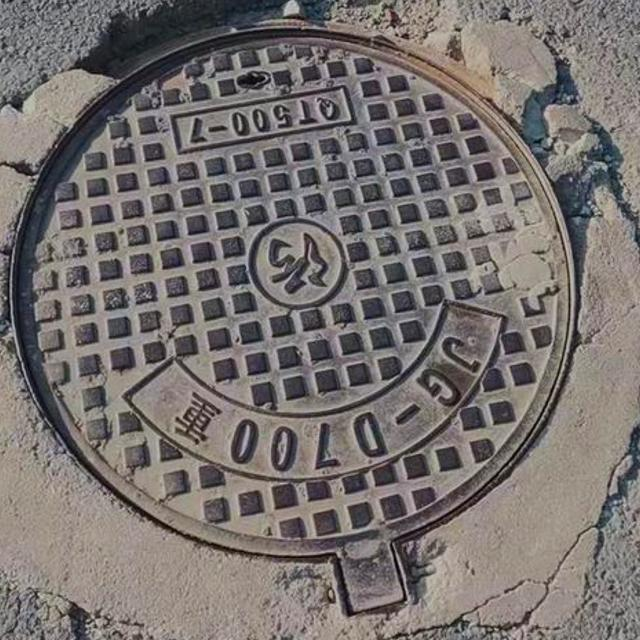circle: (0, 0, 626, 640)
